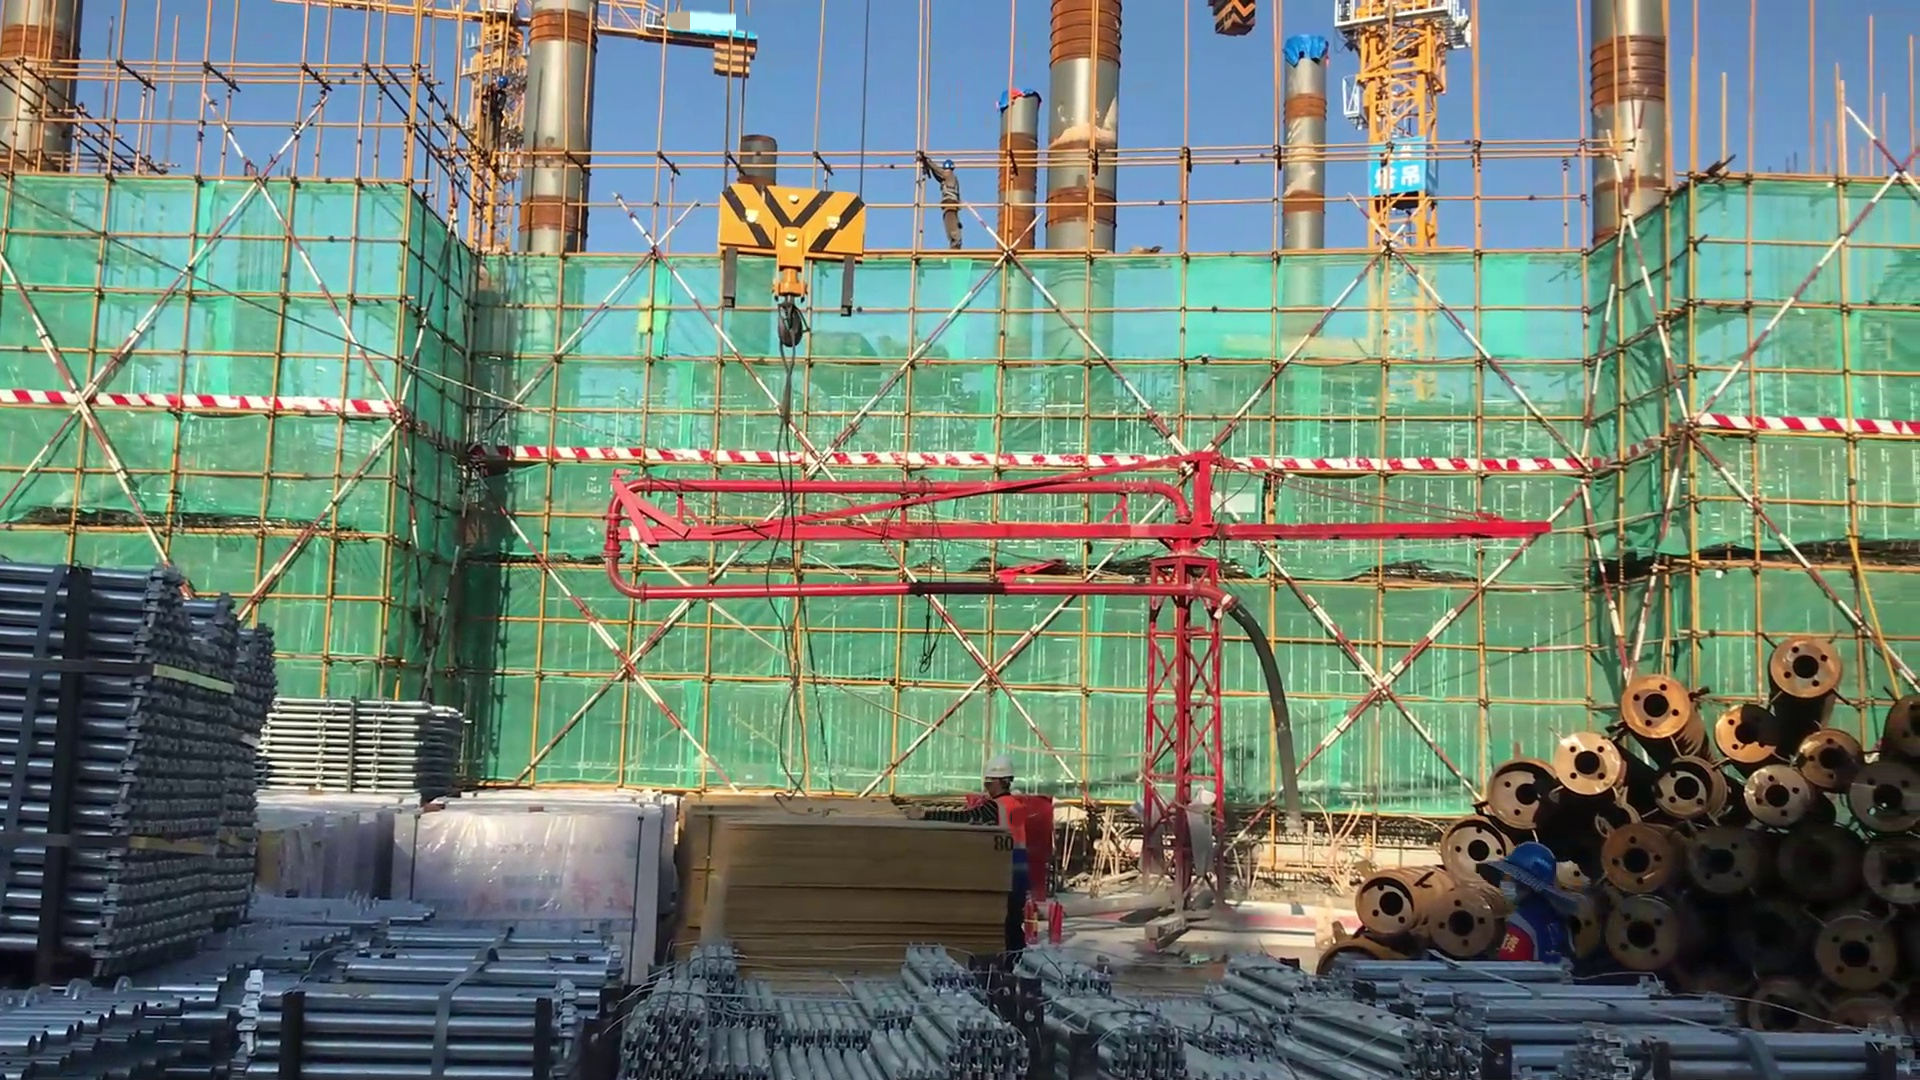board: (680, 795, 1013, 976)
helmet: (1493, 831, 1566, 894), (981, 758, 1017, 783), (940, 156, 954, 170)
hook: (720, 157, 872, 401)
person: (904, 762, 1034, 961), (1474, 835, 1587, 990), (921, 148, 974, 268)
scaffold: (1, 532, 265, 956), (1, 909, 631, 1079), (1145, 945, 1883, 1080), (634, 926, 1197, 1080), (265, 695, 469, 807)
slogan: (1373, 134, 1437, 209)
vest: (1502, 904, 1575, 969), (985, 794, 1032, 880), (936, 176, 965, 210)
